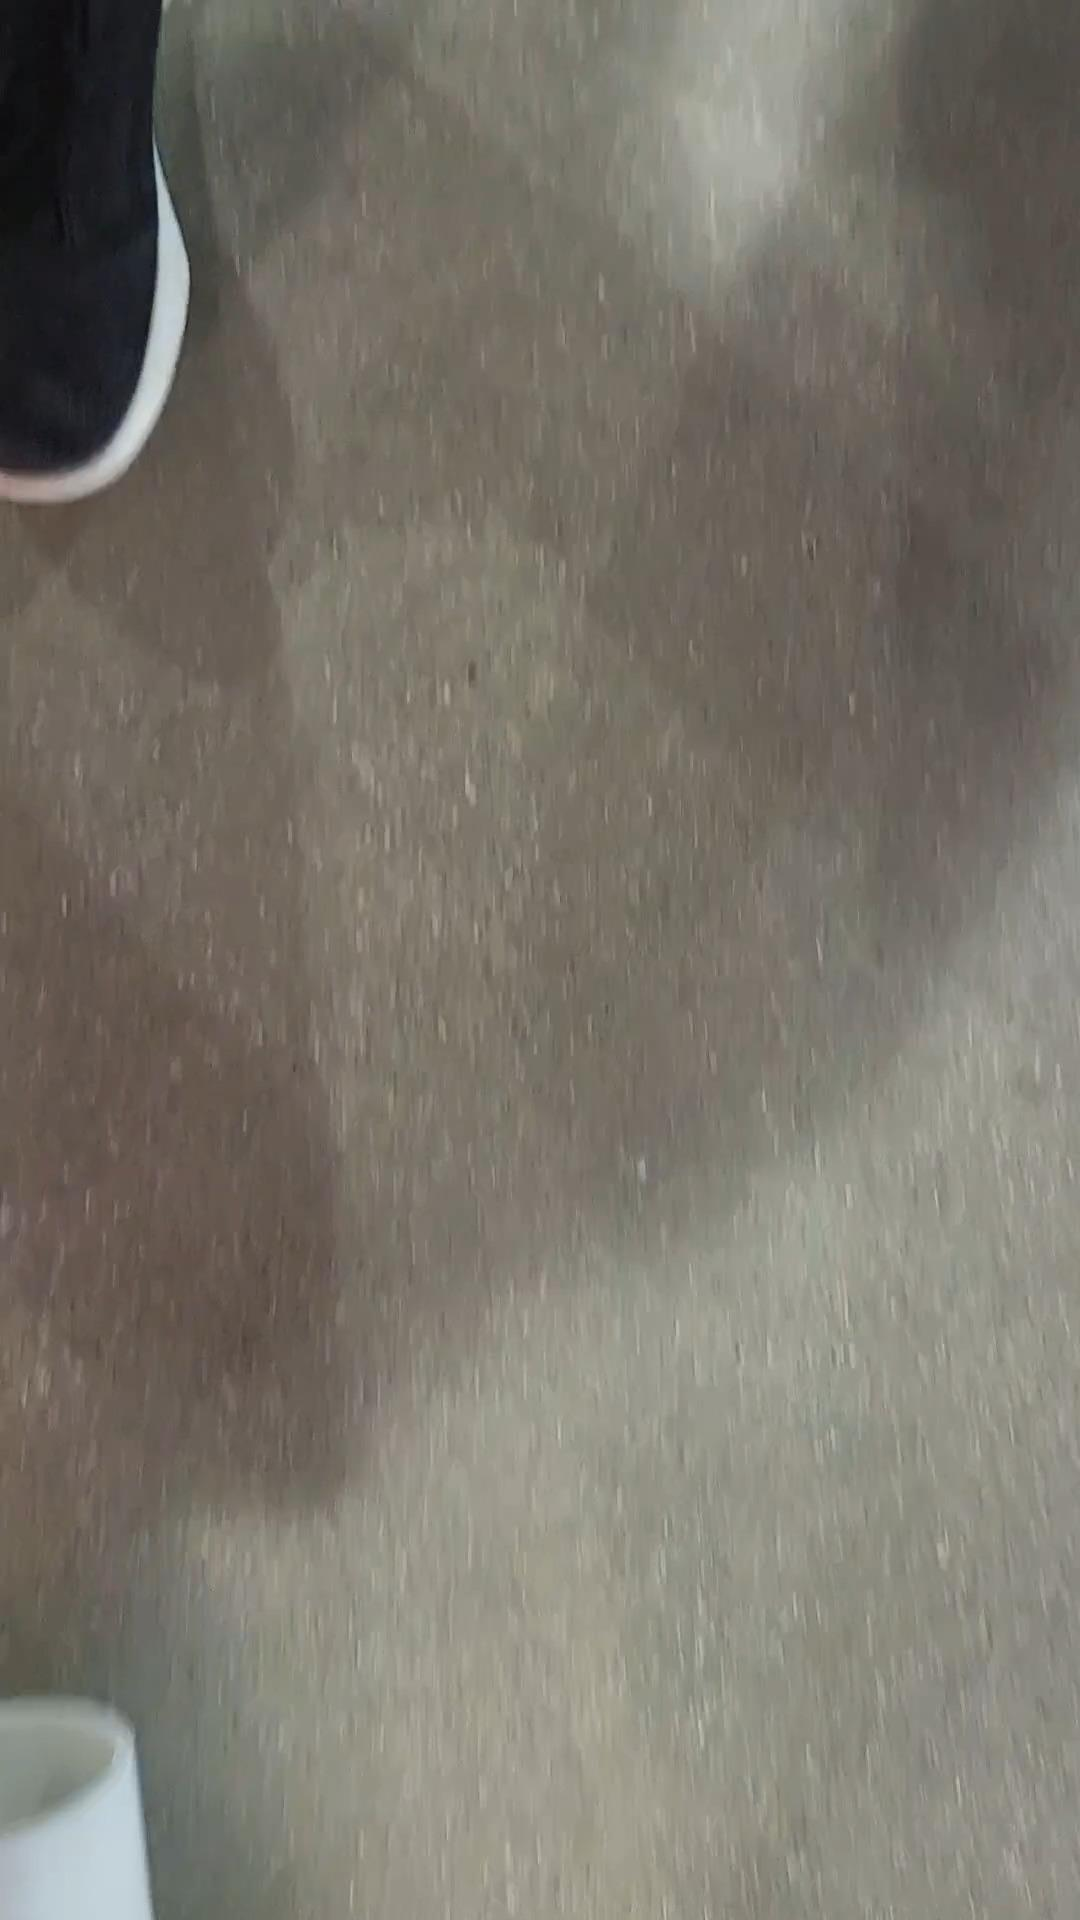coral: (0, 1705, 165, 1919)
